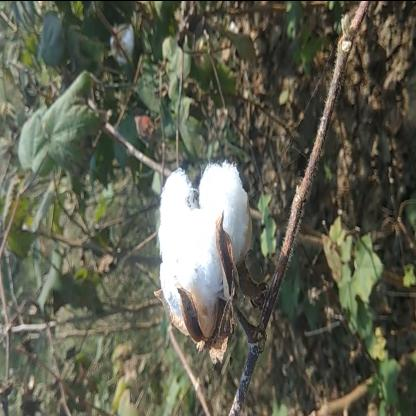cotton_ready: (155, 145, 288, 346)
